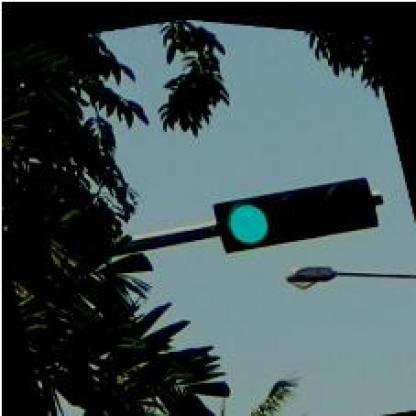green: (214, 158, 380, 260)
